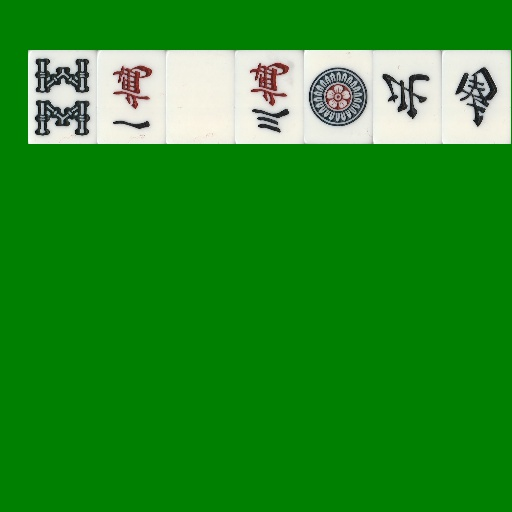1m: (97, 50, 166, 144)
1p: (304, 50, 373, 144)
3m: (235, 50, 304, 144)
8s: (28, 50, 97, 144)
north: (373, 50, 442, 144)
south: (442, 50, 511, 144)
white: (166, 50, 235, 144)
